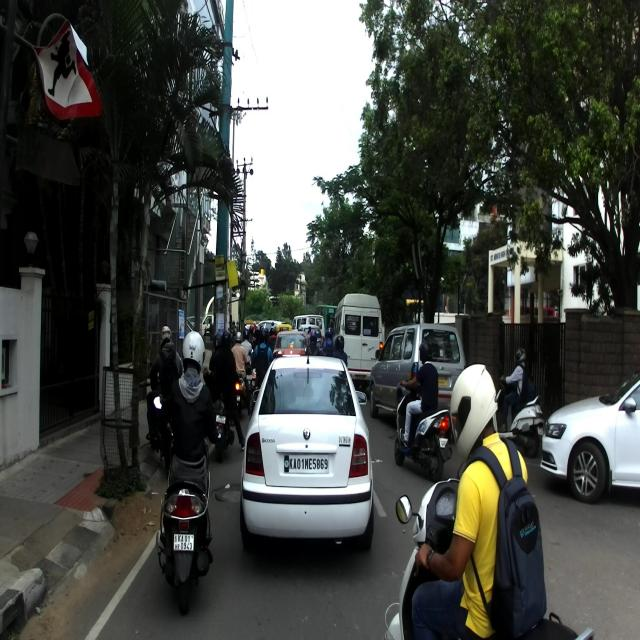car: (239, 346, 374, 549), (539, 373, 639, 503), (368, 322, 466, 418)
scooter: (153, 394, 225, 616), (394, 376, 453, 481), (497, 375, 544, 459)
